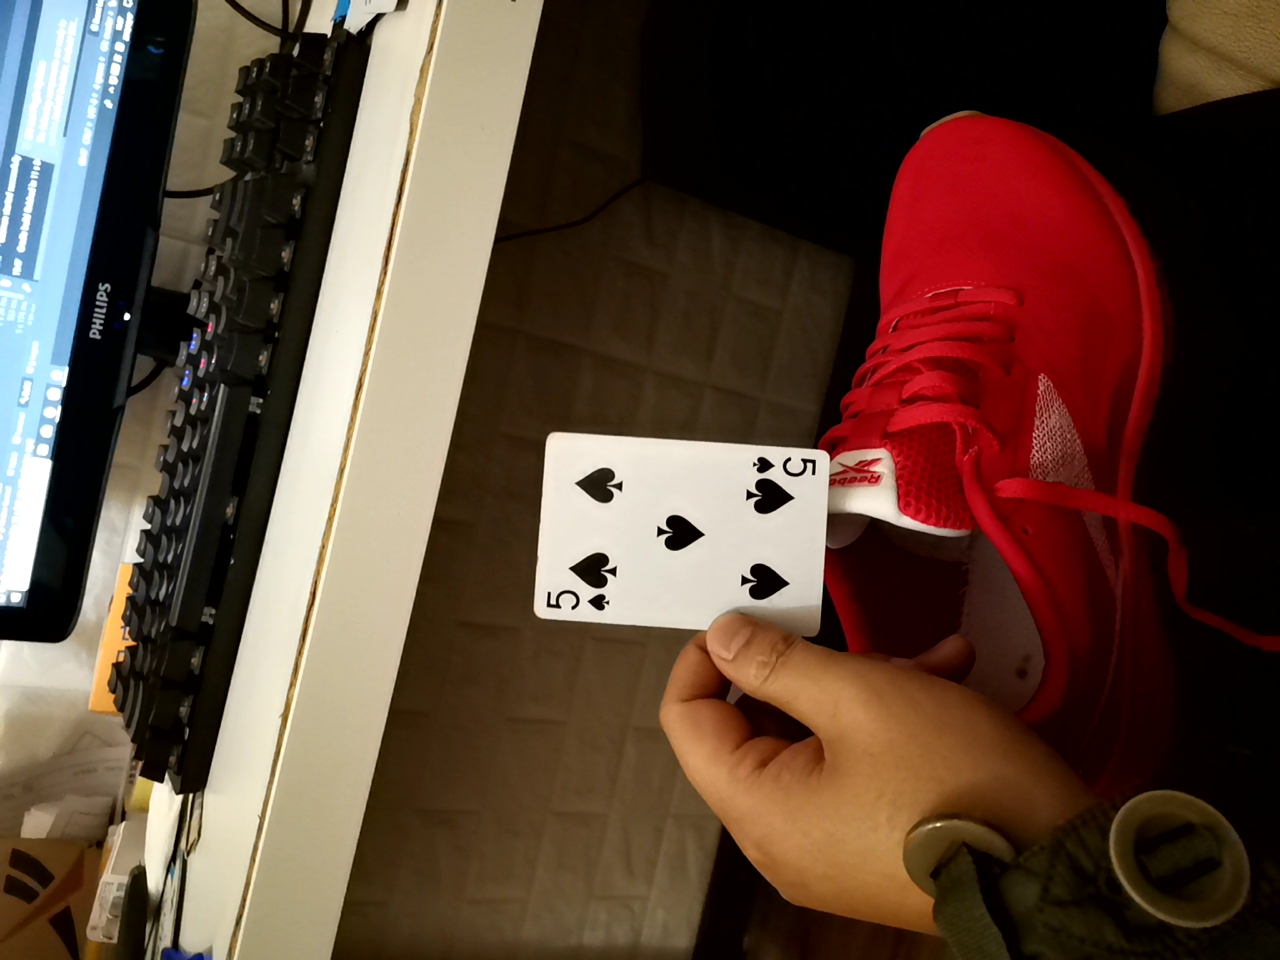ht 5: (508, 428, 853, 629)
